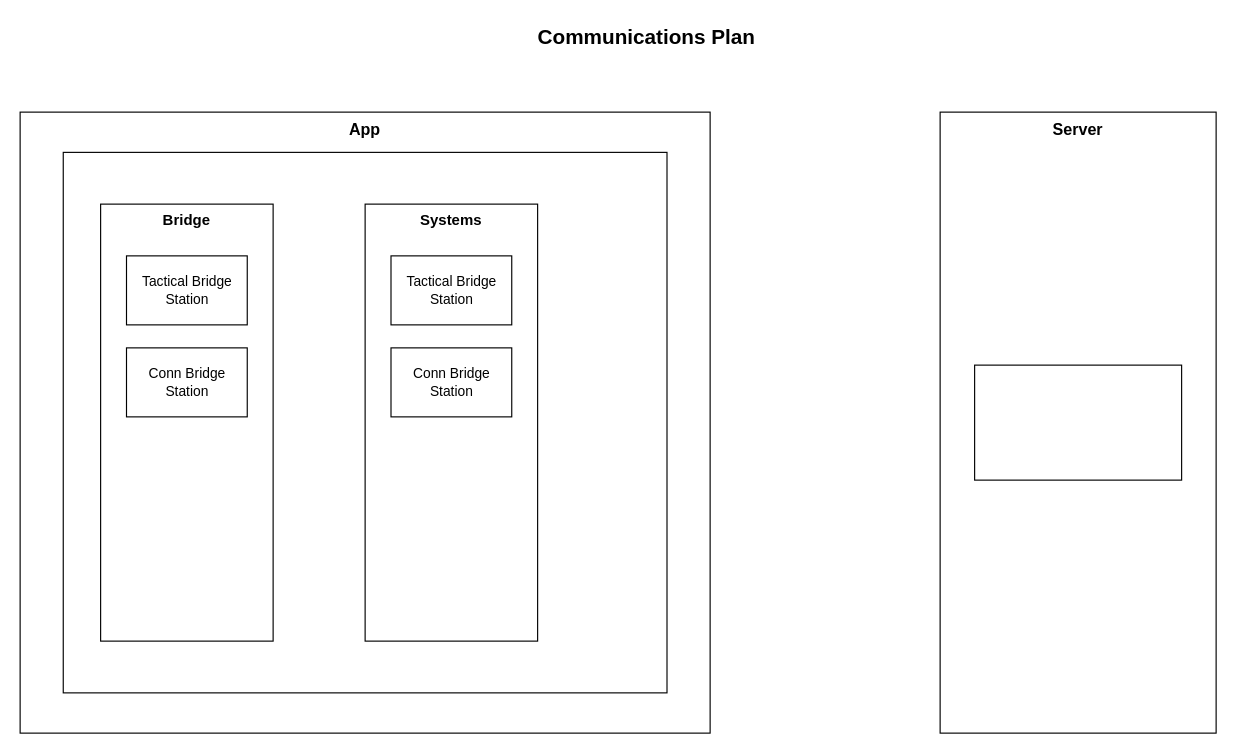
Some shapes in this 1236 by 753 pixel diagram are drawn without their labels. The shapes that lost their labels are listed below. From the top down, each one's box as (x1, y1, x2, y2) in pixels, then its label:
(62, 151, 667, 693): Ship
(973, 364, 1182, 480): Universe State
